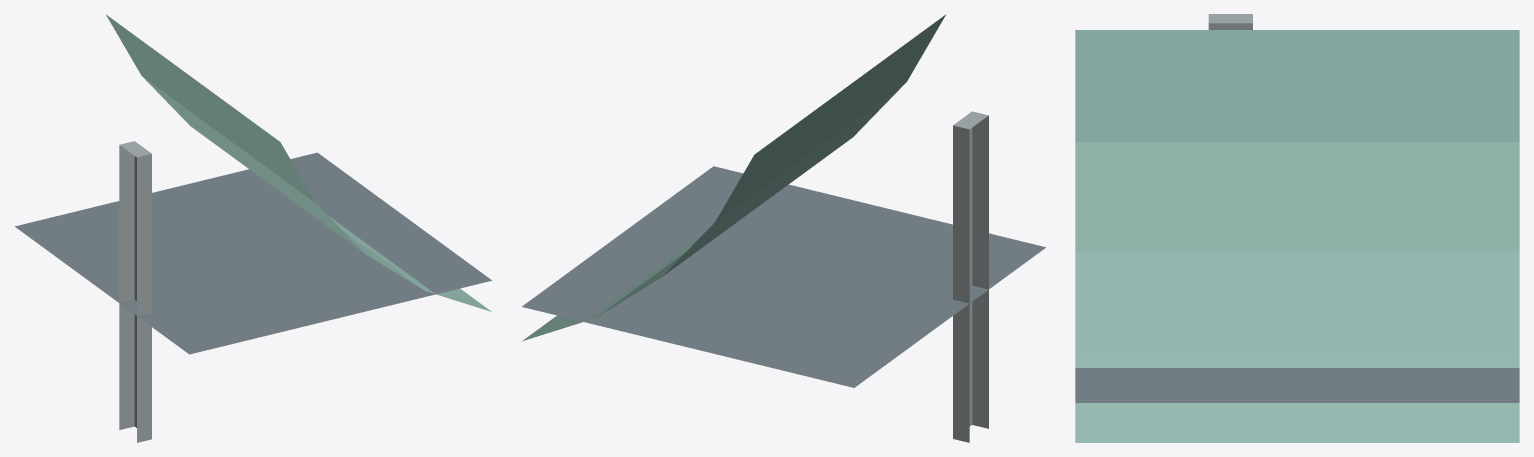
The model's file is cell_66.obj.
3 views of the same model, side by side, from view 1: azimuth 30°, elevation 25°; view 2: azimuth 150°, elevation 25°; view 3: azimuth 270°, elevation 25° (orthographic). The views are drawn at different scales.
Bounding box in the file's own units: 1 × 1 × 1.
